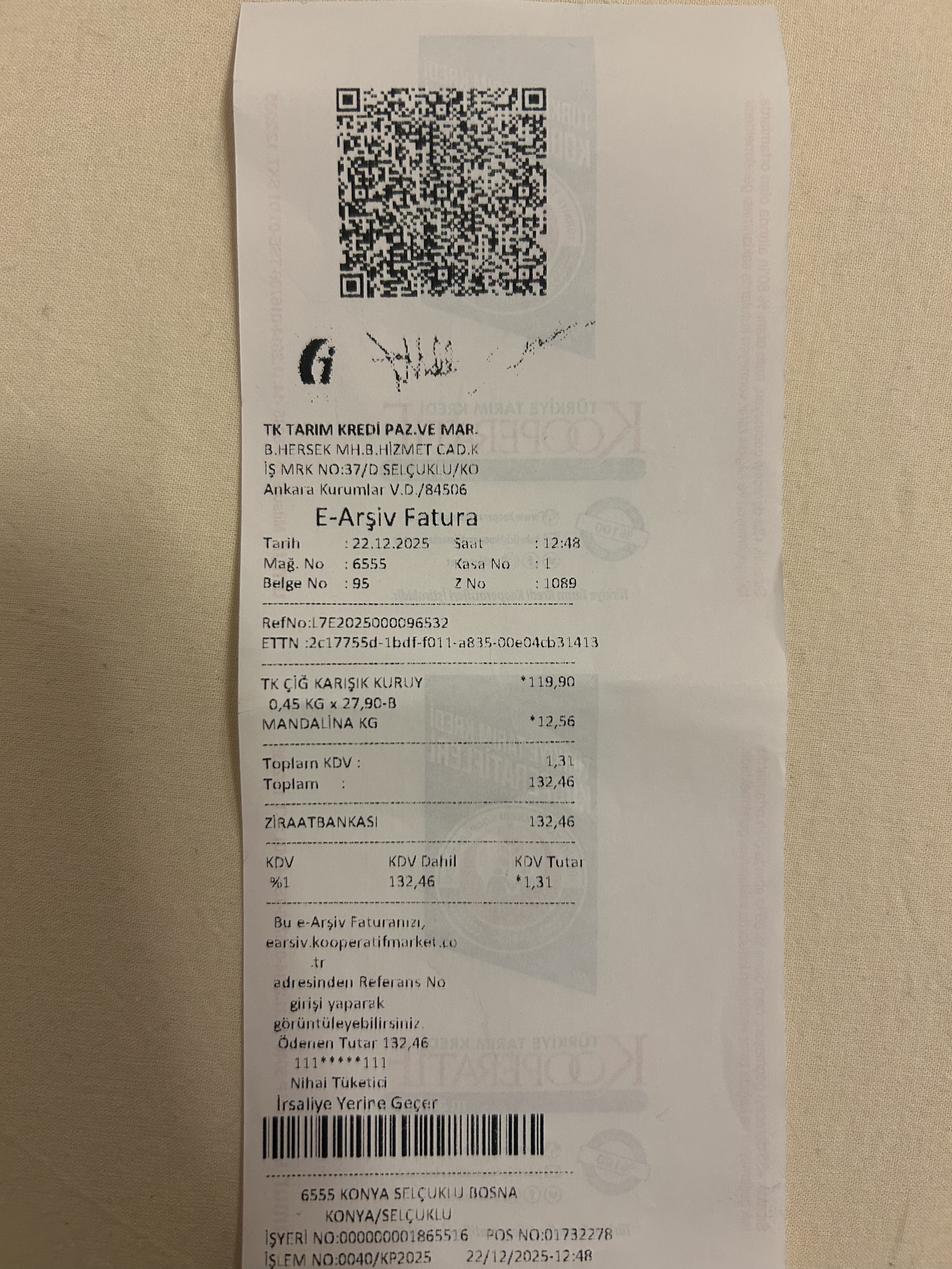date: (349, 532, 432, 556)
price: (521, 769, 583, 793)
workplace: (255, 412, 491, 482)
